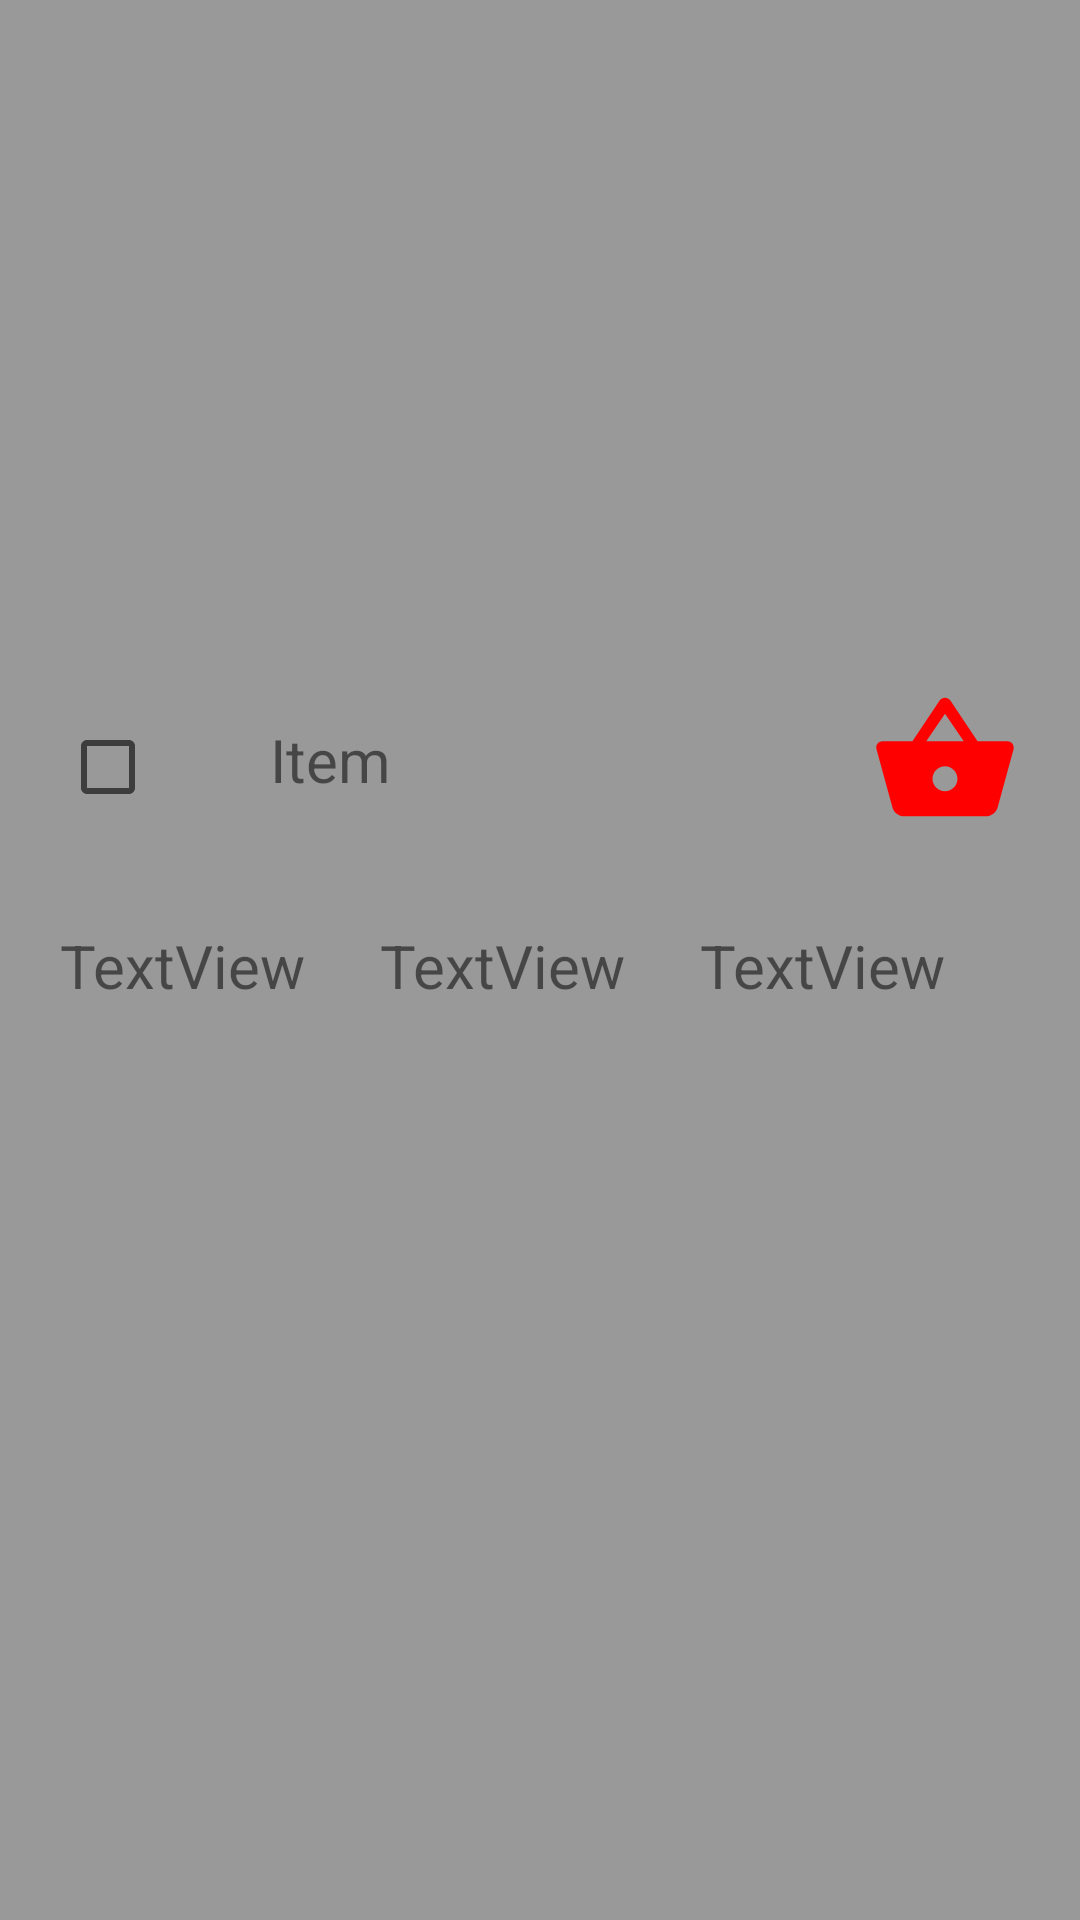

Icons on this 1080 × 1920 Android screen, each with the point to tap as (x,y):
shopping basket: (945,757)
